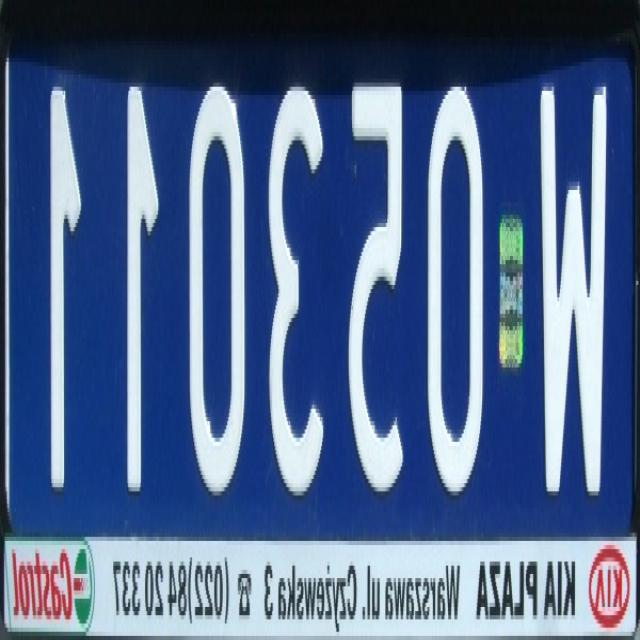pl_license_plate: (9, 49, 634, 524)
